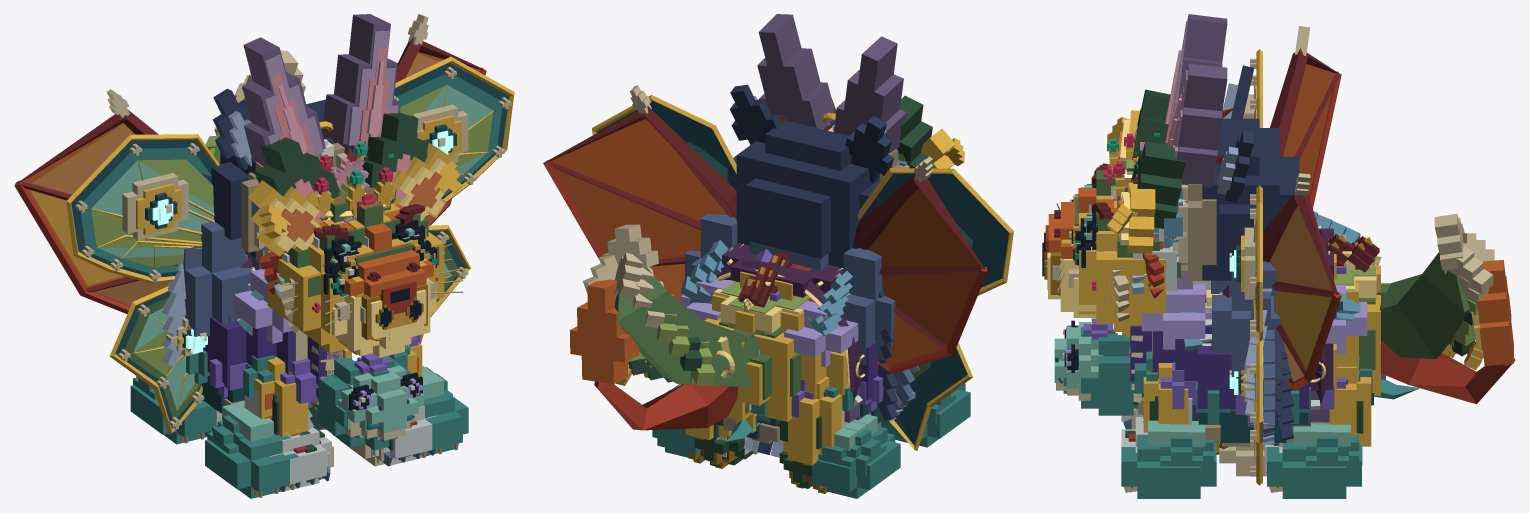
File: pets.glb
The picture shows the model from 3 angles, left to right: view 1: azimuth 30°, elevation 25°; view 2: azimuth 150°, elevation 25°; view 3: azimuth 270°, elevation 25°; orthographic projection. The views are drawn at different scales.
Parts seen in each view (by area): view 1: lantern-moth-wing-left-mesh, golden-pig-head-mesh, bloom-hare-head-mesh, moss-fox-head-mesh, lantern-moth-wing-right-mesh, crystal-tortoise-body-mesh, ember-drake-wing-left-mesh, crystal-tortoise-head-mesh, ember-drake-head-mesh, moon-owl-wing-left-mesh, moon-owl-head-mesh, crystal-tortoise-leg-front-left-mesh (+9 smaller); view 2: moon-owl-head-mesh, ember-drake-wing-right-mesh, ember-drake-wing-left-mesh, moss-fox-tail-mesh, golden-pig-body-mesh, bloom-hare-head-mesh, ember-drake-tail-mesh, lantern-moth-wing-left-mesh, crystal-tortoise-body-mesh, moon-owl-wing-left-mesh, crystal-tortoise-leg-rear-left-mesh, golden-pig-leg-rear-left-mesh (+13 smaller); view 3: crystal-tortoise-body-mesh, moon-owl-head-mesh, golden-pig-head-mesh, moss-fox-tail-mesh, ember-drake-wing-right-mesh, bloom-hare-head-mesh, ember-drake-tail-mesh, moon-owl-wing-right-mesh, moss-fox-head-mesh, ember-drake-wing-left-mesh, crystal-tortoise-leg-front-right-mesh, crystal-tortoise-head-mesh (+13 smaller).
Boxes of the visible parts, bbox=[...] form: lantern-moth-wing-left-mesh: bbox=[66, 134, 219, 434]; golden-pig-head-mesh: bbox=[248, 140, 462, 357]; bloom-hare-head-mesh: bbox=[242, 14, 452, 315]; moss-fox-head-mesh: bbox=[255, 112, 463, 332]; lantern-moth-wing-right-mesh: bbox=[394, 56, 514, 343]; crystal-tortoise-body-mesh: bbox=[186, 254, 420, 429]; ember-drake-wing-left-mesh: bbox=[14, 89, 168, 313]; crystal-tortoise-head-mesh: bbox=[311, 353, 423, 450]; ember-drake-head-mesh: bbox=[260, 147, 433, 329]; moon-owl-wing-left-mesh: bbox=[161, 222, 252, 367]; moon-owl-head-mesh: bbox=[211, 88, 368, 263]; crystal-tortoise-leg-front-left-mesh: bbox=[205, 401, 299, 498]; moon-owl-head-mesh: bbox=[727, 84, 909, 268]; ember-drake-wing-right-mesh: bbox=[543, 85, 736, 301]; ember-drake-wing-left-mesh: bbox=[853, 156, 987, 373]; moss-fox-tail-mesh: bbox=[583, 224, 759, 387]; golden-pig-body-mesh: bbox=[704, 243, 878, 432]; bloom-hare-head-mesh: bbox=[757, 14, 906, 161]; ember-drake-tail-mesh: bbox=[569, 279, 738, 430]; lantern-moth-wing-left-mesh: bbox=[857, 168, 1013, 450]; crystal-tortoise-body-mesh: bbox=[680, 249, 883, 443]; moon-owl-wing-left-mesh: bbox=[843, 248, 920, 421]; crystal-tortoise-leg-rear-left-mesh: bbox=[811, 414, 900, 498]; golden-pig-leg-rear-left-mesh: bbox=[783, 376, 846, 493]; crystal-tortoise-body-mesh: bbox=[1120, 234, 1385, 446]; moon-owl-head-mesh: bbox=[1160, 65, 1299, 280]; golden-pig-head-mesh: bbox=[1042, 110, 1165, 331]; moss-fox-tail-mesh: bbox=[1379, 213, 1494, 358]; ember-drake-wing-right-mesh: bbox=[1263, 173, 1341, 390]; bloom-hare-head-mesh: bbox=[1106, 14, 1227, 304]; ember-drake-tail-mesh: bbox=[1381, 259, 1515, 404]; moon-owl-wing-right-mesh: bbox=[1212, 261, 1293, 445]; moss-fox-head-mesh: bbox=[1044, 89, 1185, 321]; ember-drake-wing-left-mesh: bbox=[1270, 26, 1341, 208]; crystal-tortoise-leg-front-right-mesh: bbox=[1121, 420, 1216, 498]; crystal-tortoise-head-mesh: bbox=[1054, 318, 1143, 415].
Size of the model in its own units: 1.3 by 1.1 by 1.15.
